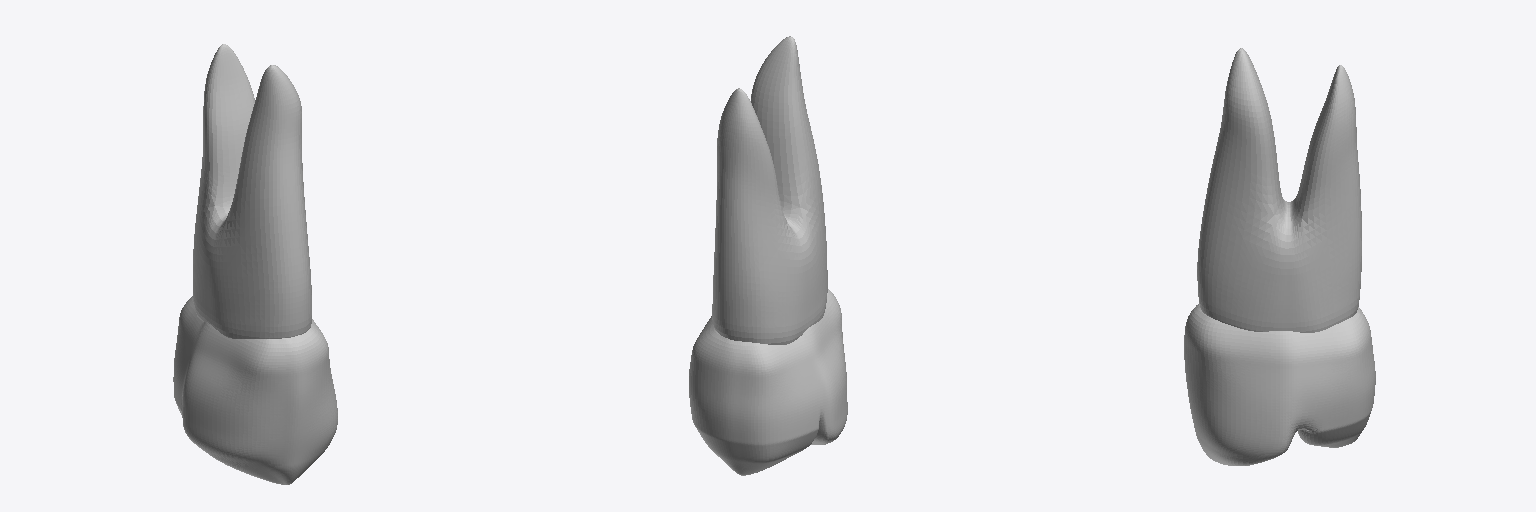
The model's file is modelo.obj.
3 renders of one model, left to right at view 1: azimuth 30°, elevation 25°; view 2: azimuth 150°, elevation 25°; view 3: azimuth 270°, elevation 25°, orthographic.
Parts seen in each view (by area): view 1: Cylinder, Cylinder.001; view 2: Cylinder, Cylinder.001; view 3: Cylinder, Cylinder.001.
Boxes of the visible parts, x1=… form: Cylinder: x1=193, y1=44, x2=311, y2=338; Cylinder.001: x1=173, y1=296, x2=337, y2=484; Cylinder: x1=712, y1=36, x2=827, y2=344; Cylinder.001: x1=689, y1=289, x2=847, y2=475; Cylinder: x1=1197, y1=48, x2=1361, y2=332; Cylinder.001: x1=1184, y1=304, x2=1375, y2=465.
Bounding box in the file's own units: 1.73 × 4.96 × 2.09.